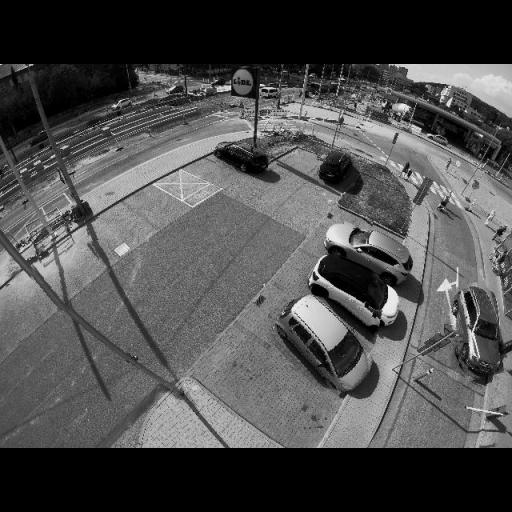busy: (268, 294, 378, 391), (310, 258, 402, 324), (448, 281, 506, 380), (326, 226, 408, 273), (216, 142, 272, 174), (313, 147, 356, 184)
free: (228, 362, 297, 408), (29, 264, 73, 310), (0, 285, 33, 345), (66, 240, 110, 276), (96, 212, 148, 238), (134, 198, 178, 221), (200, 165, 230, 181), (344, 216, 373, 232), (291, 154, 317, 168)
